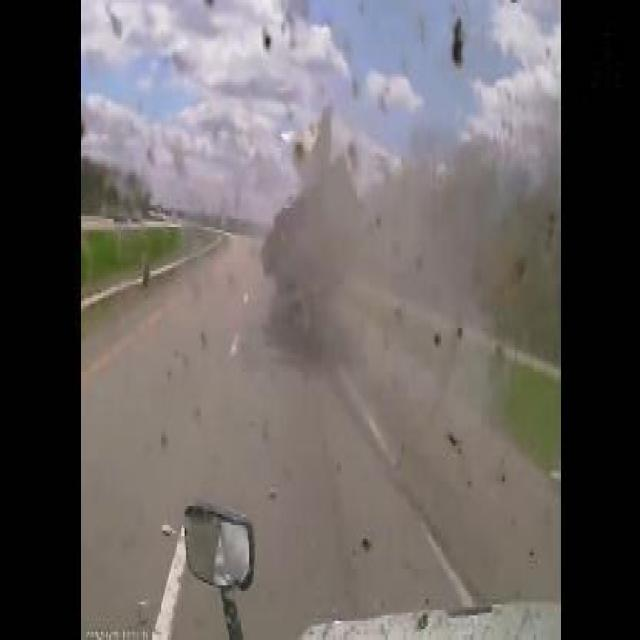accident: (257, 134, 375, 356)
